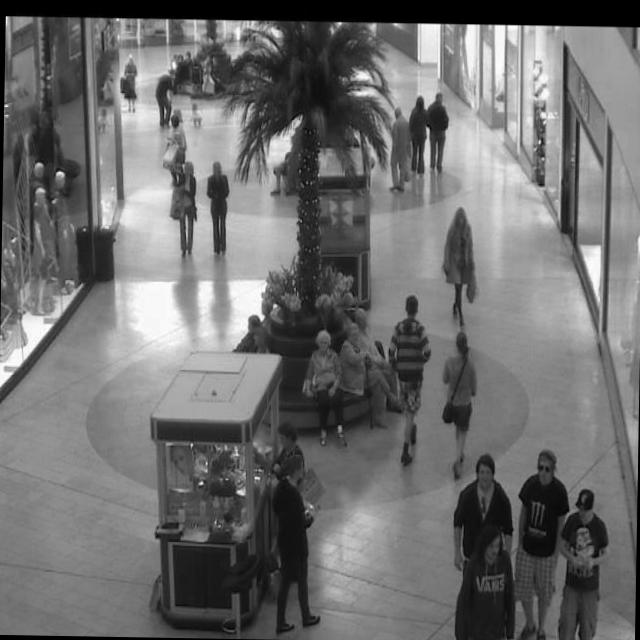person: (512, 445, 571, 640), (267, 433, 322, 634), (553, 486, 612, 640), (452, 454, 514, 588), (384, 298, 432, 467), (453, 527, 518, 640), (335, 322, 393, 432), (440, 334, 478, 472), (300, 332, 342, 447), (442, 206, 476, 316), (170, 166, 200, 256), (204, 162, 231, 254), (424, 91, 450, 174), (408, 94, 432, 174), (389, 105, 411, 188), (160, 112, 187, 178), (270, 416, 301, 452), (155, 69, 174, 124), (120, 54, 138, 112), (252, 284, 276, 319), (353, 306, 373, 344), (184, 95, 204, 132), (176, 53, 193, 91), (246, 316, 262, 343)
